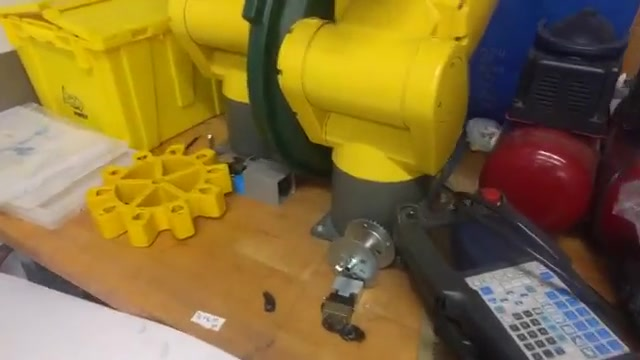gear: (85, 140, 232, 248)
